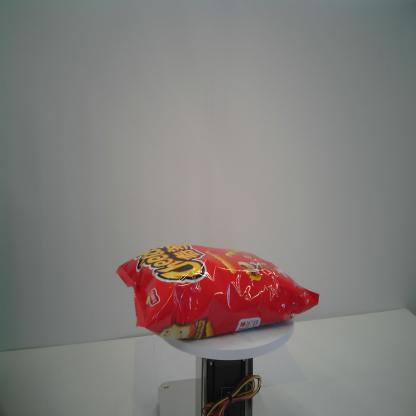Puffed Food: (114, 243, 320, 343)
